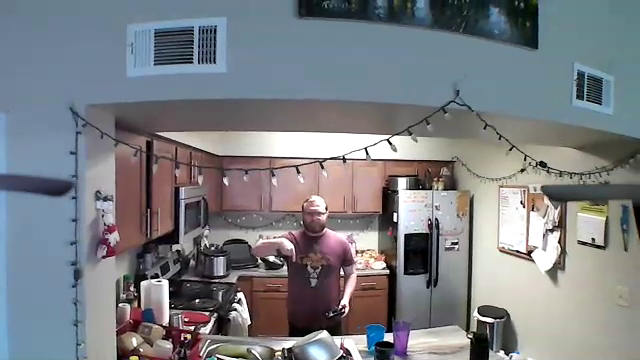down: (274, 233, 298, 264)
